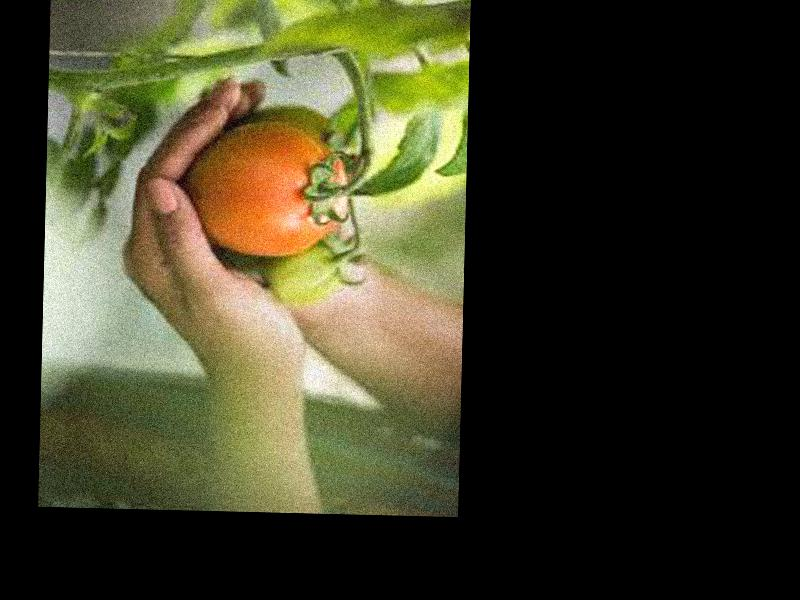Tomato: (190, 121, 347, 257)
